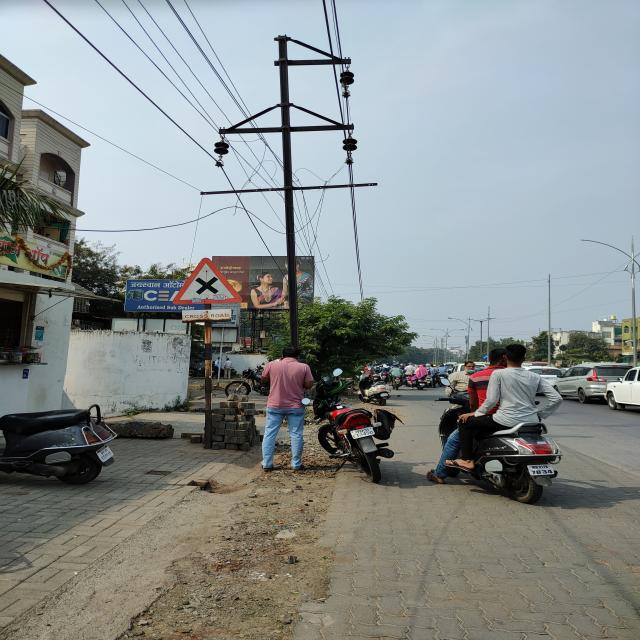cross_road: (173, 257, 243, 307)
